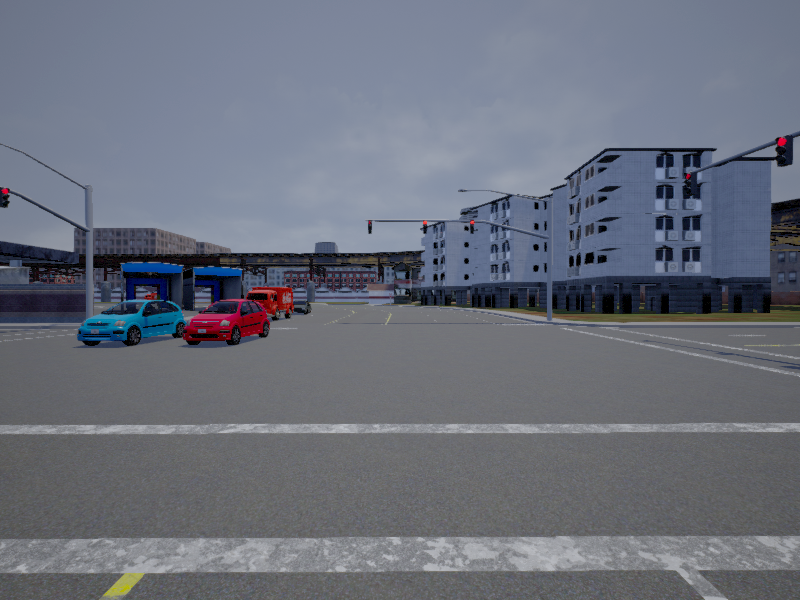Benign: (77, 299, 186, 347), (182, 297, 271, 344), (245, 285, 296, 322), (292, 302, 312, 316)
